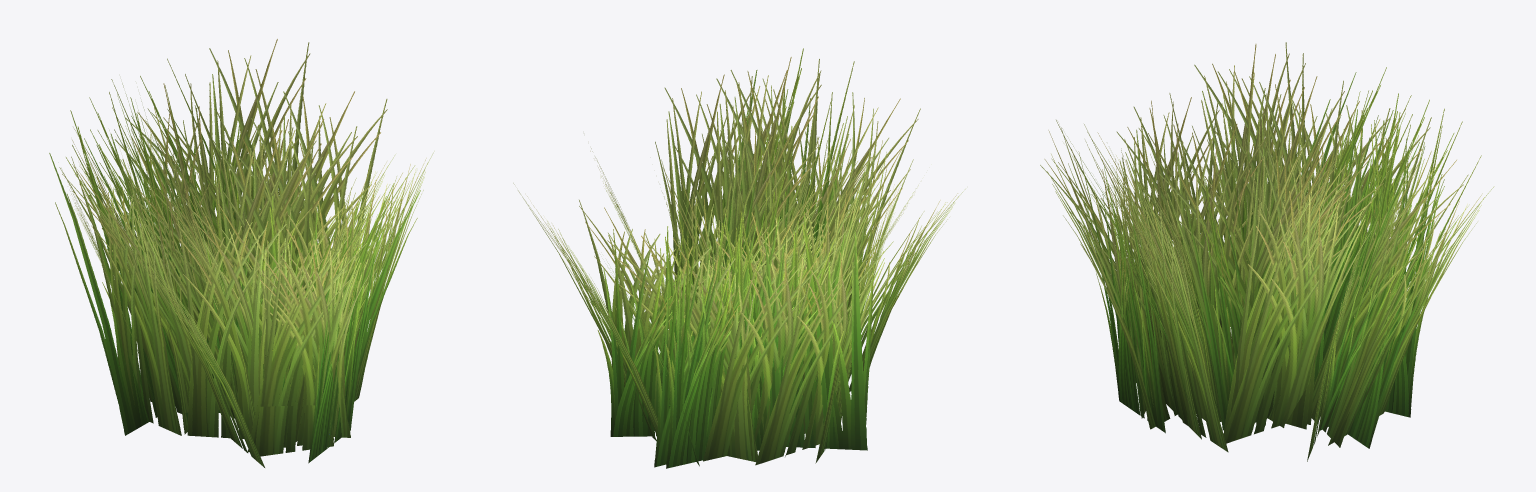
File: Grass_TallHiding_B.fbx
3 views of the same model, side by side, from view 1: azimuth 30°, elevation 25°; view 2: azimuth 150°, elevation 25°; view 3: azimuth 270°, elevation 25° (orthographic).
Visible parts, largest first — view 1: Grass_TallHiding_B_LOD0; view 2: Grass_TallHiding_B_LOD0; view 3: Grass_TallHiding_B_LOD0.
Boxes of the visible parts, left/top/right/bottom form: Grass_TallHiding_B_LOD0: left=49, top=39, right=434, bottom=467; Grass_TallHiding_B_LOD0: left=513, top=48, right=965, bottom=468; Grass_TallHiding_B_LOD0: left=1040, top=42, right=1494, bottom=461.
Size of what is drawn, in the model's own units: 2.08 by 1.64 by 2.39.
